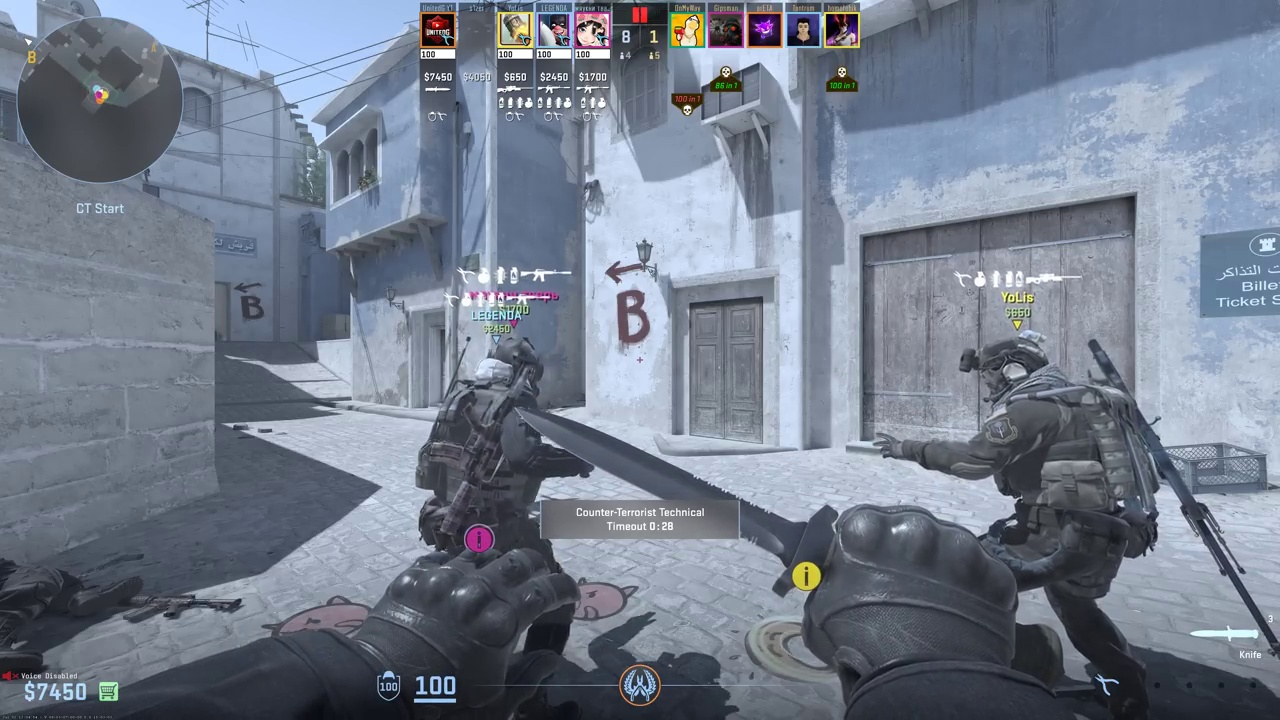CT: (975, 330, 1155, 714), (433, 336, 574, 573)
